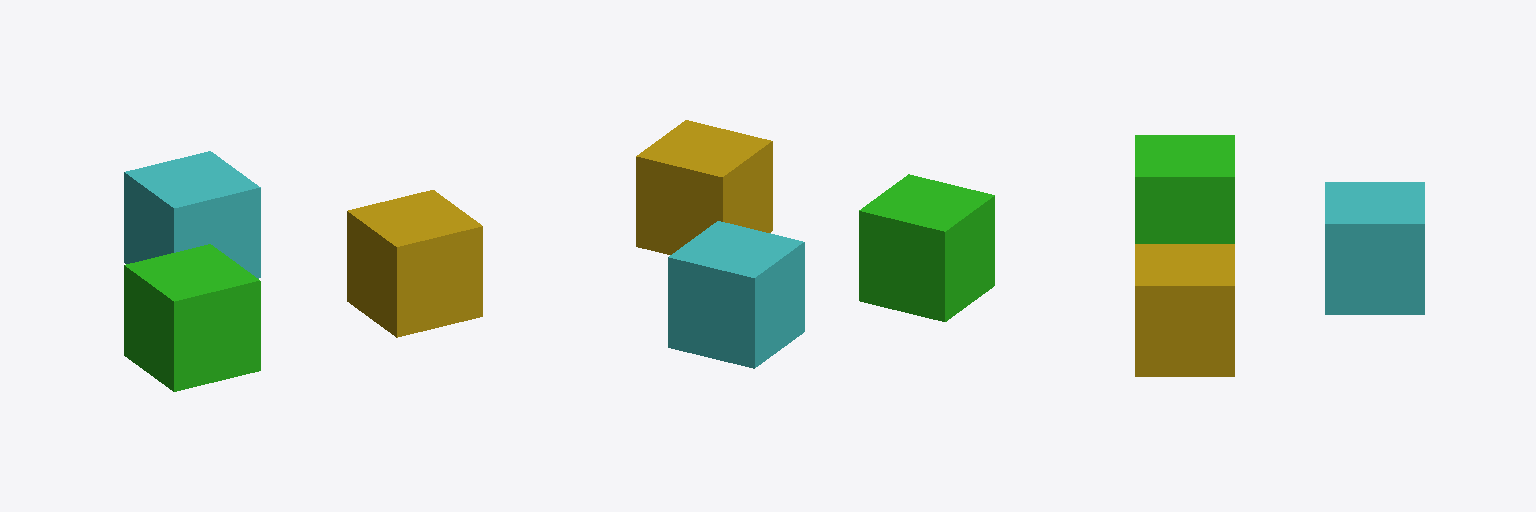
Rendered from glossy_reflections.obj.
3 renders of one model, left to right at view 1: azimuth 30°, elevation 25°; view 2: azimuth 150°, elevation 25°; view 3: azimuth 270°, elevation 25°, orthographic.
Visible parts, largest first — view 1: Cube.001, Cube, Cube.002; view 2: Cube.002, Cube.001, Cube; view 3: Cube, Cube.002, Cube.001.
Part boxes in pixels (x1,y1,x2,y2): Cube.001: (124,244,260,391); Cube: (347,190,482,337); Cube.002: (124,151,260,278); Cube.002: (668,221,804,368); Cube.001: (859,174,994,321); Cube: (636,120,772,254); Cube: (1135,244,1234,376); Cube.002: (1325,182,1424,314); Cube.001: (1135,135,1234,243).
Bounding box in the file's own units: 1.98 × 0.5539 × 1.61.